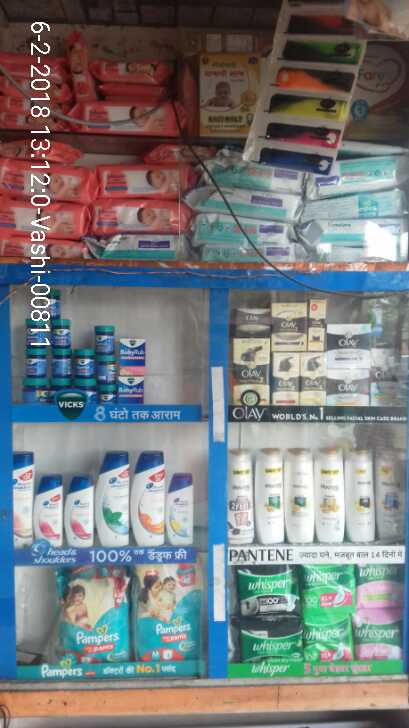beauty: (130, 447, 166, 545), (94, 450, 130, 546), (314, 446, 347, 544), (344, 447, 377, 543), (283, 445, 314, 545), (255, 447, 285, 544), (232, 336, 270, 405), (63, 473, 95, 547), (166, 471, 197, 543), (34, 474, 63, 546), (326, 322, 372, 365), (271, 300, 306, 351), (326, 368, 369, 405), (272, 351, 300, 403), (299, 351, 326, 404), (235, 306, 272, 337), (306, 295, 326, 350)
pharmacy: (130, 562, 205, 659), (54, 565, 130, 659), (233, 564, 300, 614), (230, 617, 304, 659), (301, 563, 356, 610), (301, 614, 354, 661), (353, 610, 402, 659), (24, 347, 50, 377), (93, 323, 116, 356), (72, 347, 96, 377), (94, 354, 118, 383), (51, 347, 73, 378), (52, 319, 72, 347)
